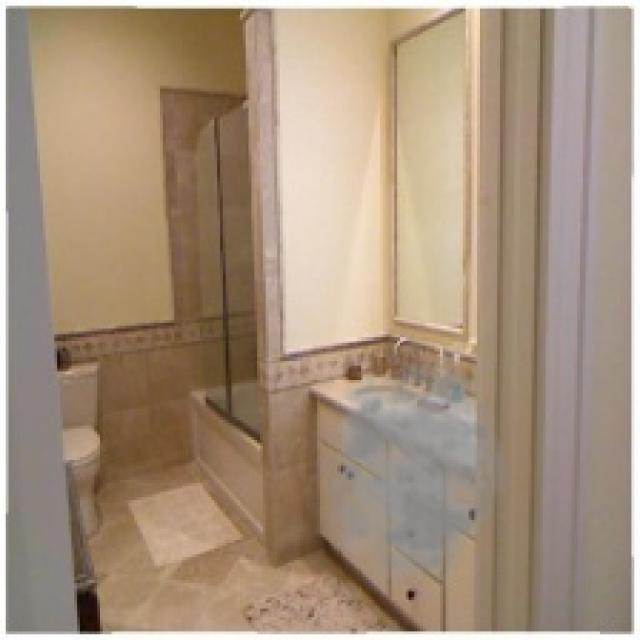smoke: (300, 351, 511, 603)
